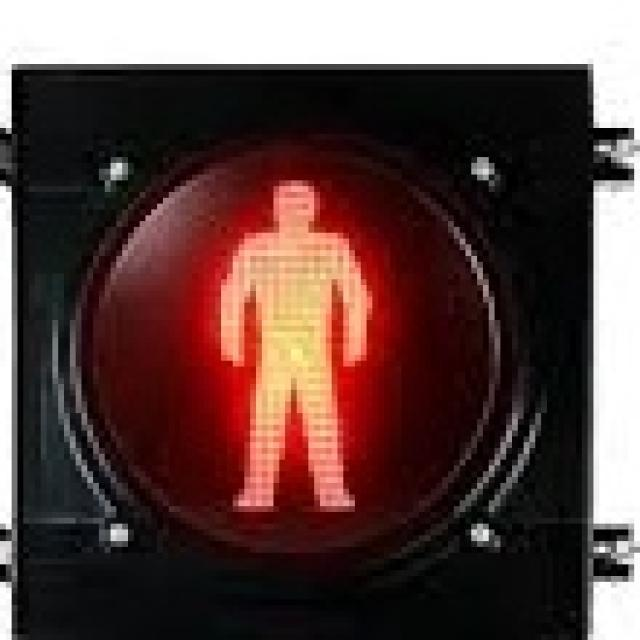red-crossing: (192, 157, 378, 524)
